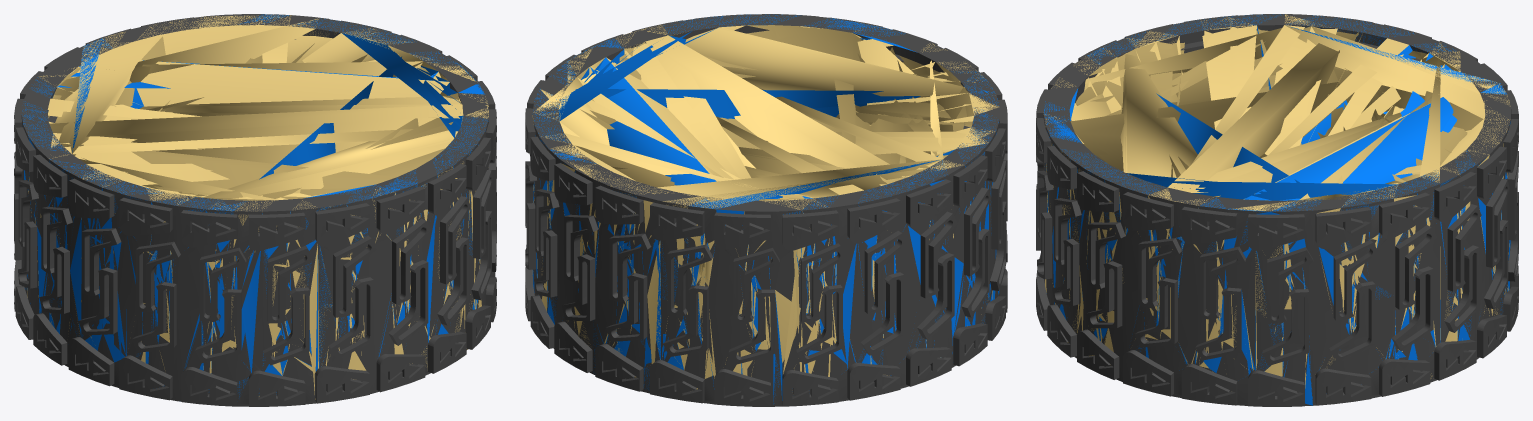
The model's file is left_wheel_link.dae.
3 renders of one model, left to right at view 1: azimuth 30°, elevation 25°; view 2: azimuth 150°, elevation 25°; view 3: azimuth 270°, elevation 25°, orthographic.
Visible parts, largest first — view 1: node0, node2, node1; view 2: node0, node2, node1; view 3: node0, node2, node1.
Part boxes in pixels (box(x1,y1,x2,y2)): node0: box(14, 14, 496, 406); node2: box(27, 15, 488, 399); node1: box(22, 14, 488, 397); node0: box(525, 14, 1007, 406); node2: box(532, 25, 998, 389); node1: box(532, 14, 999, 404); node0: box(1036, 14, 1518, 406); node2: box(1045, 14, 1510, 388); node1: box(1044, 14, 1510, 405).
Bounding box in the file's own units: 0.065 × 0.029 × 0.065.
